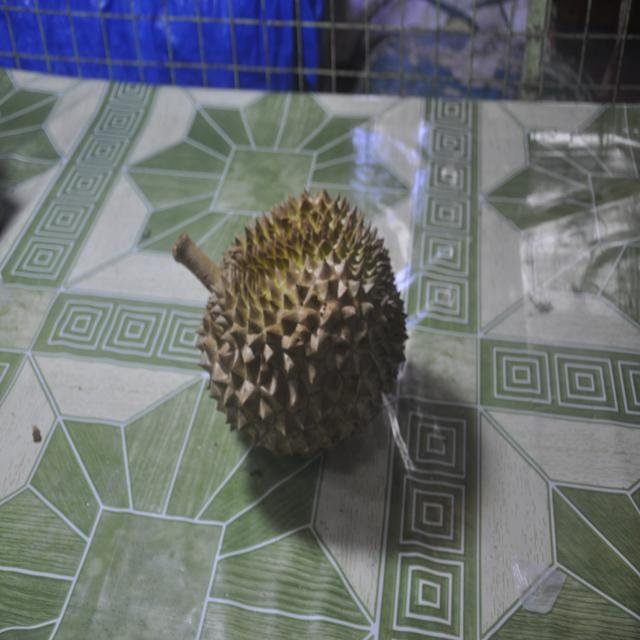mature: (173, 189, 413, 469)
